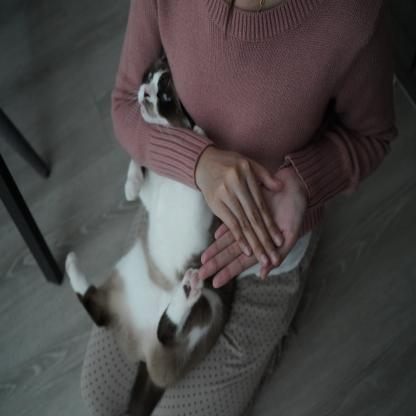Love: (196, 147, 308, 295)
